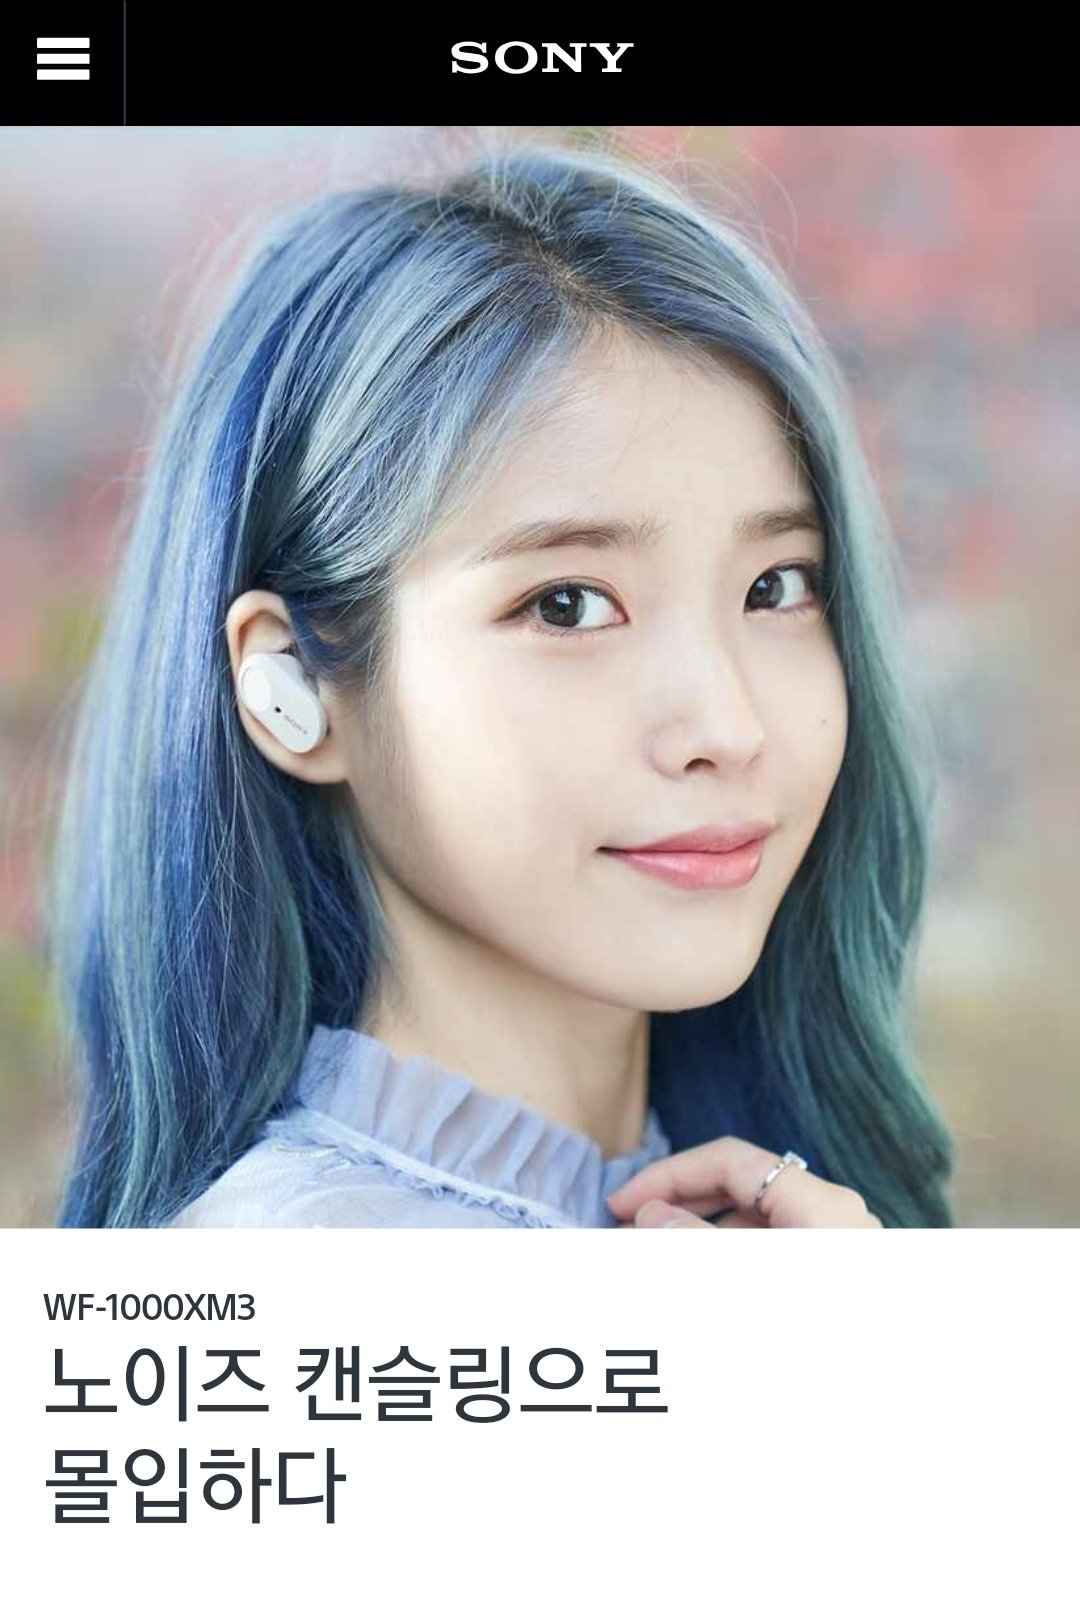earphone: (225, 591, 356, 783)
